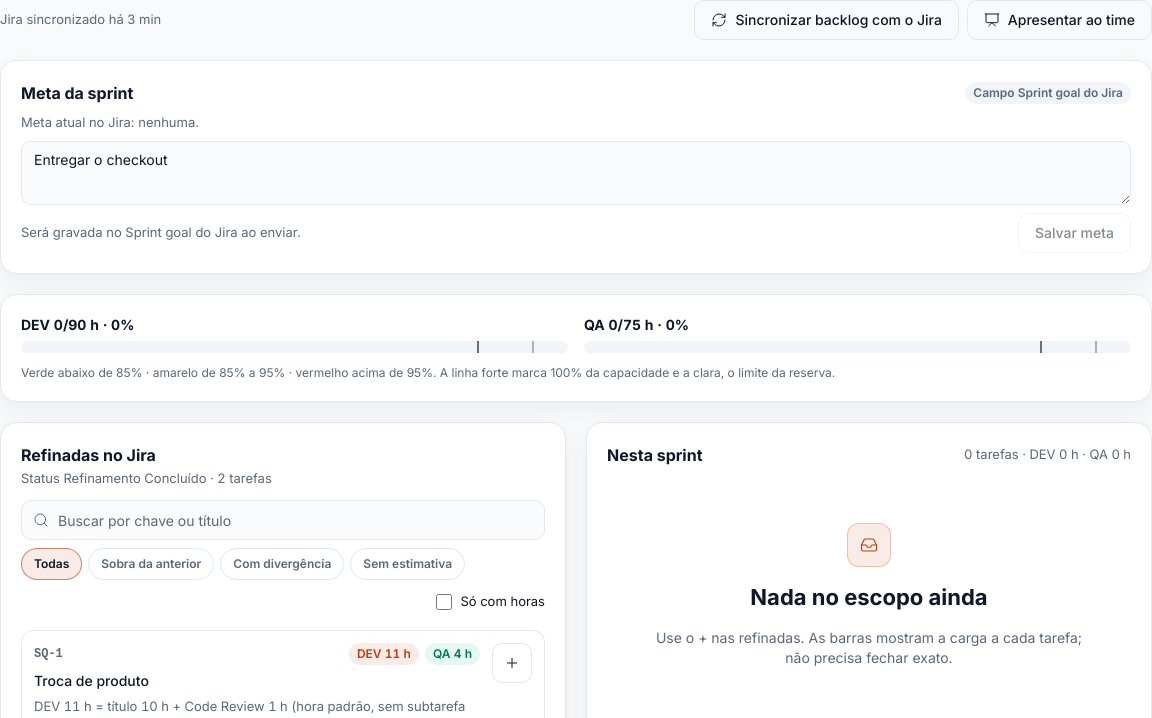
Test: Escopo: sinalizações nas tarefas › busca e filtros
Type "cancel" into the search field named "Buscar nas refinadas".
click(283, 520); type("cancel")  # box top-left (21, 500), bottom-right (545, 540)
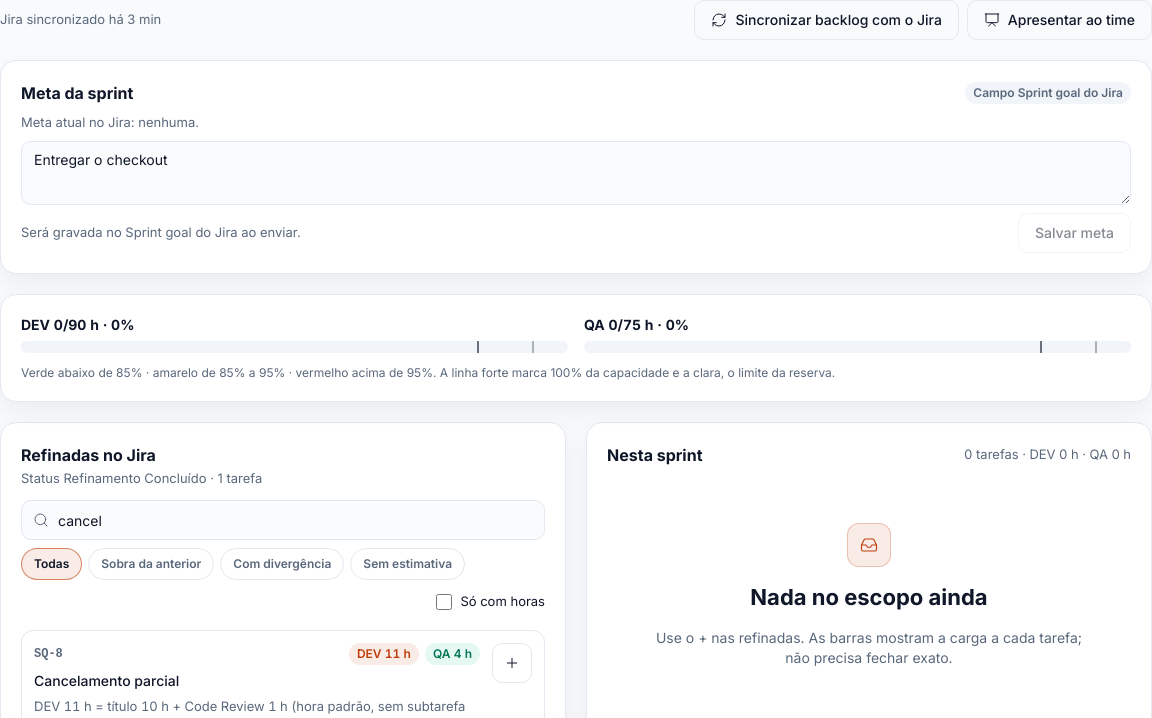
Click the button "Sobra da anterior".
click(151, 564)  # box top-left (88, 548), bottom-right (214, 580)
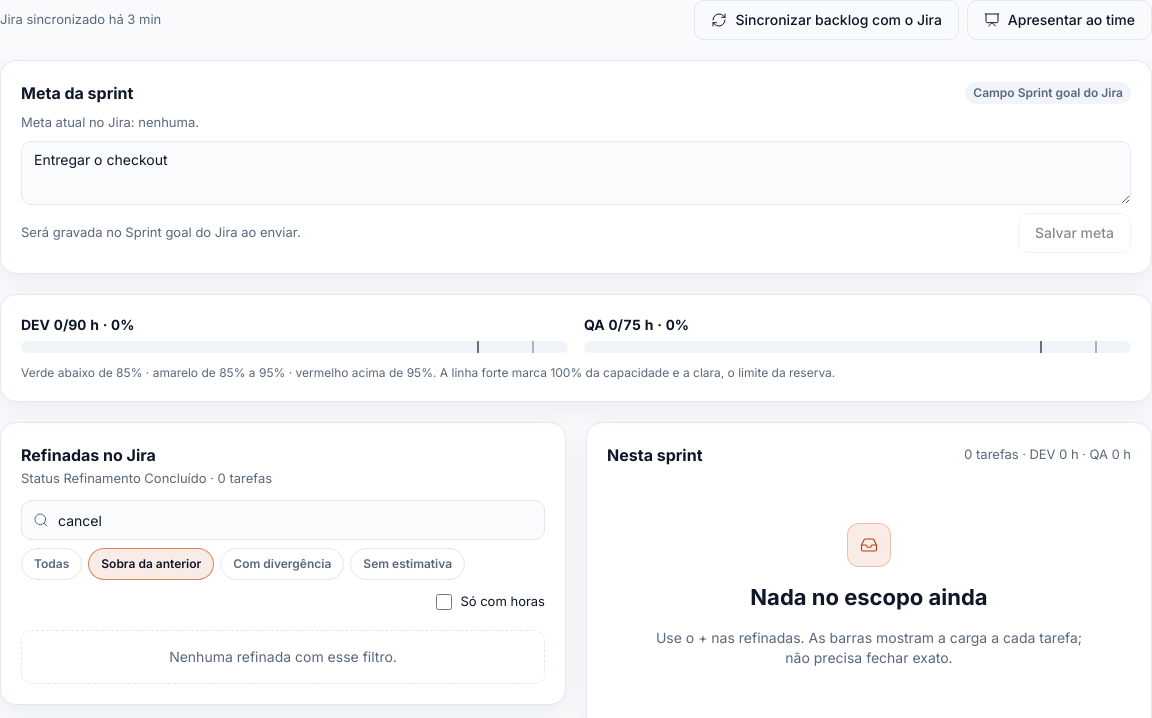
Expected: the text "Nenhuma refinada com esse filtro." is shown, top-left (21, 630), bottom-right (545, 684)
